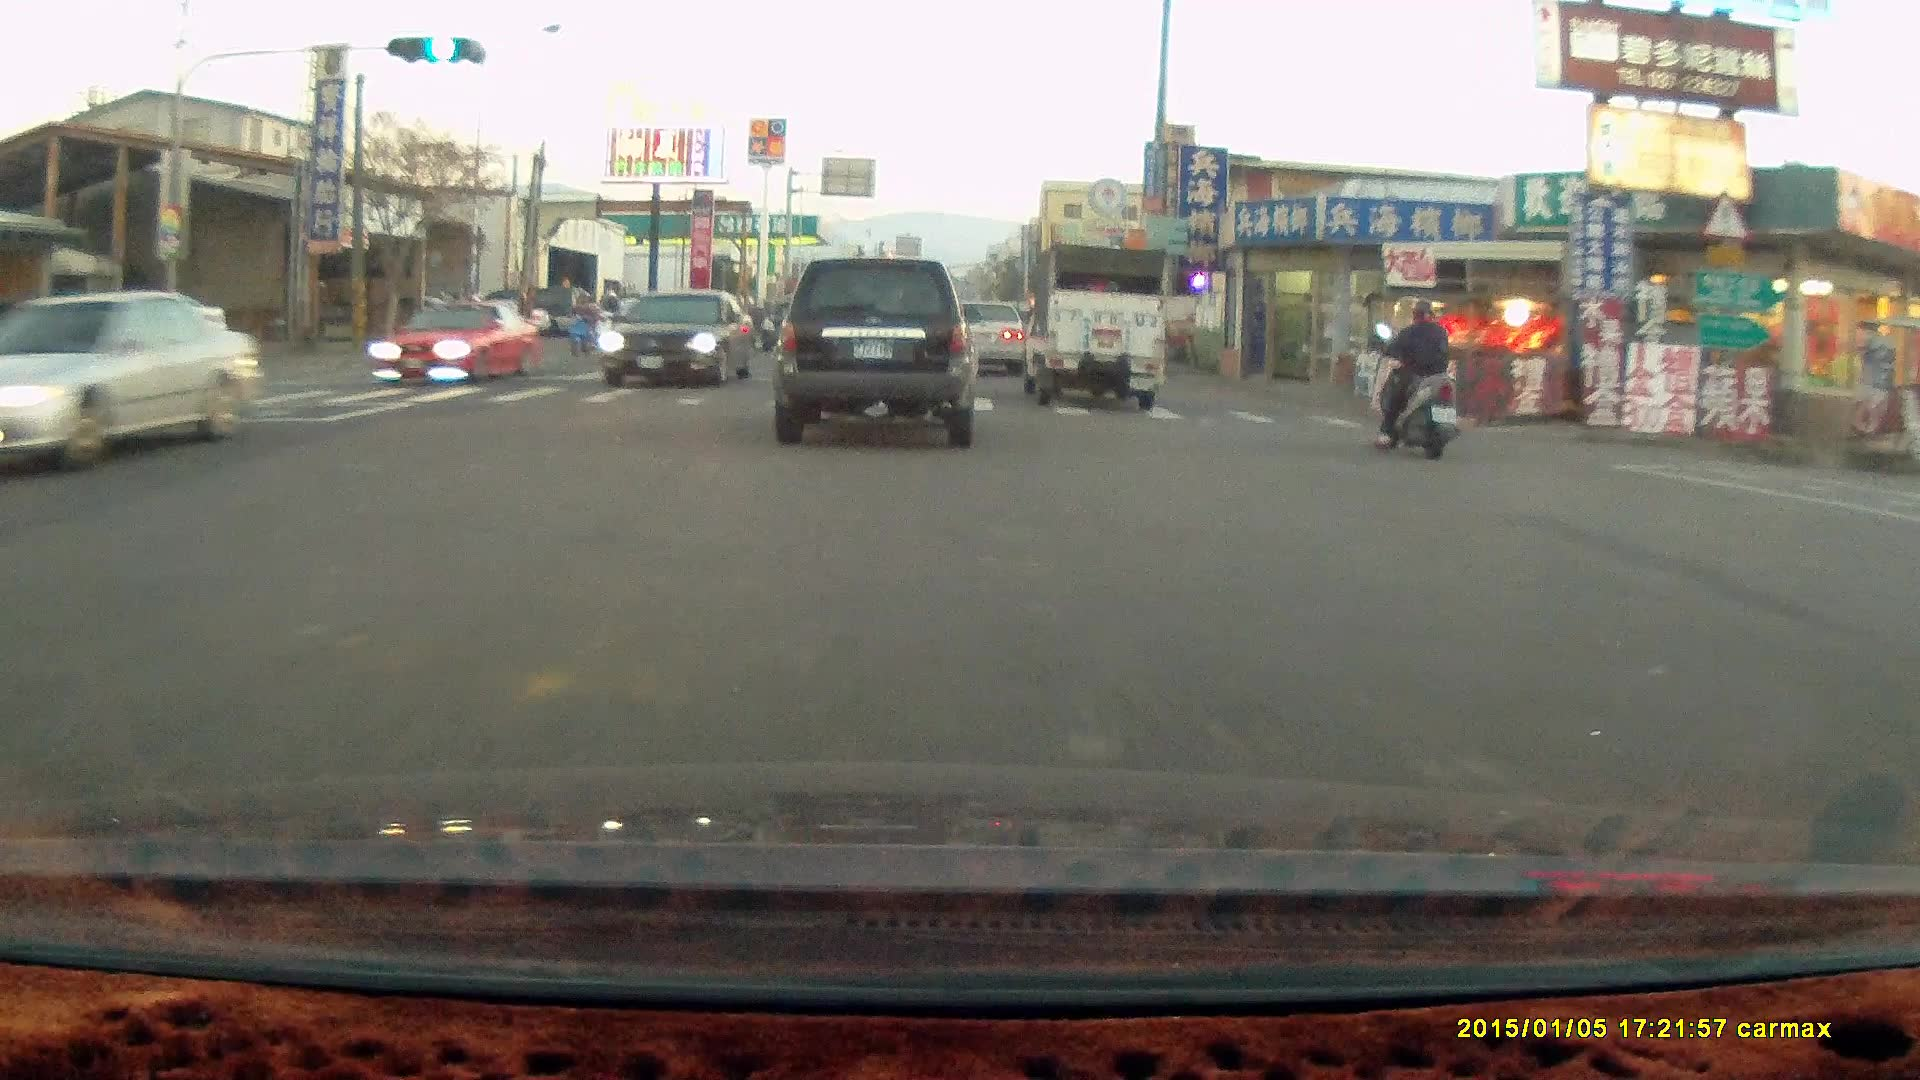rider: (1370, 280, 1459, 445), (561, 287, 599, 348), (593, 289, 631, 347)
vehicle: (1, 287, 267, 470), (769, 254, 982, 447), (1015, 238, 1169, 409), (600, 286, 755, 390), (372, 296, 540, 385), (46, 284, 227, 352), (940, 294, 1026, 374), (942, 300, 1029, 379)
